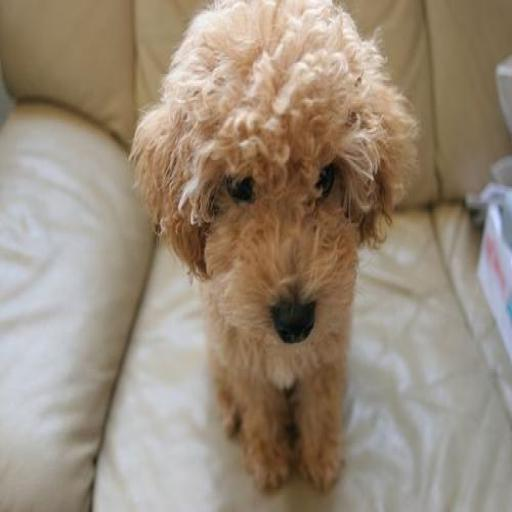dog_face: (138, 6, 416, 351)
